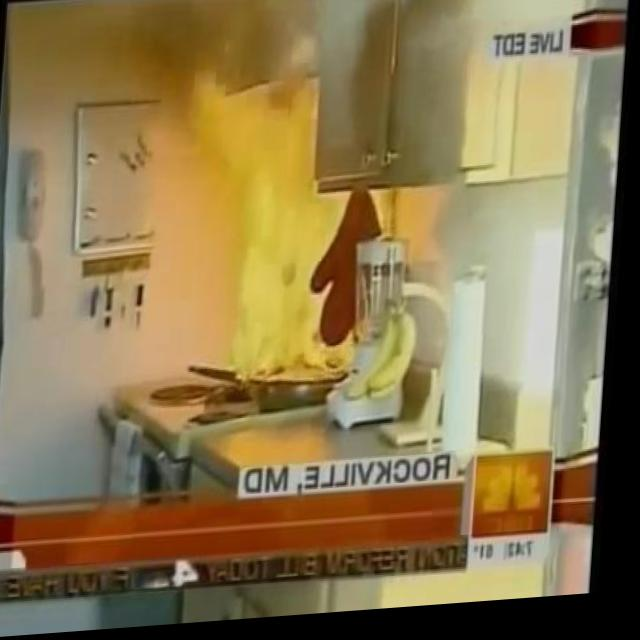fire: (183, 60, 385, 395)
